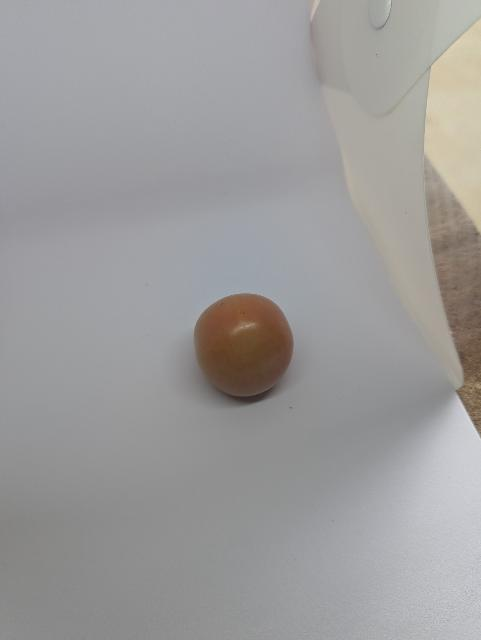turning: (184, 280, 310, 409)
